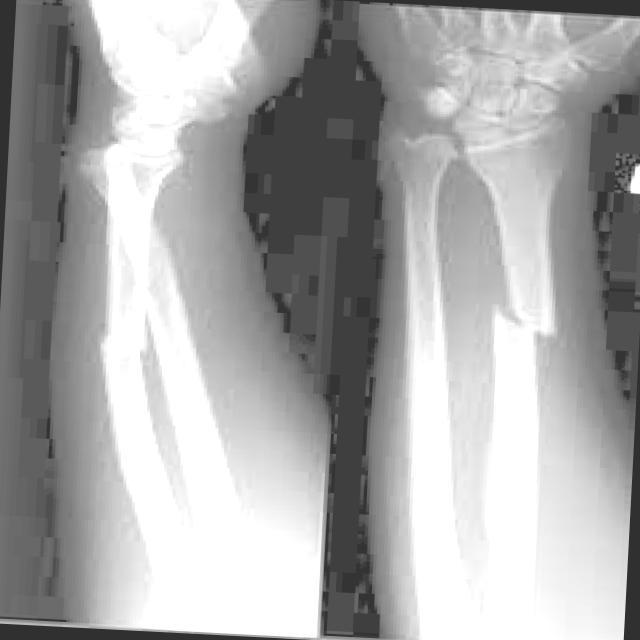Fracture Dislocation: (475, 301, 570, 346), (92, 325, 152, 363)
